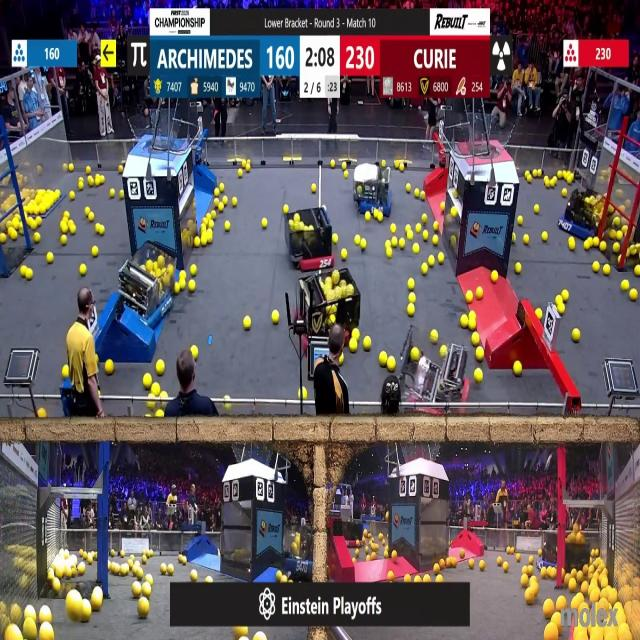ball_ground: (92, 590, 104, 611), (542, 600, 554, 618), (545, 626, 559, 640), (139, 599, 149, 618), (81, 603, 91, 621), (530, 577, 540, 595), (40, 607, 51, 623), (514, 360, 523, 376), (41, 627, 53, 639), (556, 597, 566, 611), (105, 359, 114, 374), (133, 584, 142, 599), (525, 589, 534, 604), (54, 579, 63, 593), (387, 356, 395, 371), (144, 375, 152, 389), (380, 352, 388, 366), (158, 360, 166, 374), (244, 316, 252, 329), (362, 338, 370, 351), (474, 368, 482, 381), (412, 348, 420, 361), (460, 315, 468, 328), (142, 585, 150, 598), (430, 328, 437, 342), (470, 334, 478, 346), (26, 269, 34, 281), (408, 306, 416, 318), (465, 290, 473, 302), (62, 365, 70, 377), (630, 289, 638, 301), (467, 317, 475, 329), (622, 280, 630, 292), (151, 384, 159, 396), (549, 567, 557, 579), (553, 615, 561, 627), (190, 346, 197, 359), (350, 340, 357, 353), (562, 289, 569, 302), (572, 328, 579, 341), (448, 557, 457, 567), (96, 175, 105, 185), (38, 410, 46, 421), (77, 564, 85, 575), (571, 598, 579, 609), (603, 265, 610, 277), (409, 279, 416, 291), (189, 266, 196, 278), (187, 280, 194, 292), (475, 348, 482, 360), (441, 345, 448, 357), (569, 581, 576, 593), (556, 294, 564, 304), (155, 410, 163, 420), (145, 574, 153, 584), (120, 565, 128, 575), (273, 311, 279, 324), (568, 238, 574, 251), (206, 232, 212, 245), (516, 264, 523, 275), (93, 246, 100, 257), (98, 223, 105, 234), (69, 223, 76, 234), (522, 575, 529, 586), (342, 249, 349, 260), (10, 231, 17, 242), (61, 221, 68, 232), (618, 255, 625, 266), (492, 272, 498, 284), (475, 287, 481, 299), (19, 267, 25, 279), (409, 292, 416, 302), (193, 237, 200, 247), (352, 328, 359, 338), (61, 236, 68, 246), (302, 389, 309, 399), (137, 568, 144, 578), (566, 173, 573, 183), (539, 567, 546, 577), (46, 252, 52, 263), (594, 263, 600, 274), (34, 233, 40, 244), (80, 266, 86, 277), (524, 235, 530, 246), (422, 265, 428, 276), (190, 570, 196, 581), (558, 304, 564, 315), (331, 234, 337, 245), (0, 234, 6, 245), (174, 283, 180, 294), (276, 570, 282, 581), (403, 573, 410, 582), (413, 244, 420, 253), (363, 212, 370, 221), (388, 570, 394, 580), (585, 241, 591, 251), (439, 253, 445, 263), (540, 233, 546, 243), (635, 266, 640, 278), (480, 560, 486, 570), (428, 256, 434, 266), (600, 242, 606, 252), (408, 232, 414, 242), (263, 218, 269, 228), (354, 236, 360, 246), (391, 552, 397, 562), (502, 562, 508, 572), (162, 564, 168, 574), (615, 243, 621, 253), (179, 555, 185, 565), (297, 389, 303, 399), (201, 237, 207, 247), (433, 564, 439, 574), (420, 192, 426, 202), (36, 216, 42, 226), (435, 574, 442, 582), (467, 560, 474, 568), (205, 575, 212, 583), (424, 574, 431, 582), (147, 400, 154, 408), (415, 574, 422, 582), (536, 309, 541, 320), (169, 564, 174, 575), (452, 208, 458, 217), (534, 205, 540, 214), (516, 216, 522, 225), (422, 214, 428, 223), (110, 188, 116, 197), (70, 190, 76, 199), (64, 211, 70, 220), (282, 573, 288, 582), (213, 200, 219, 209), (552, 177, 558, 186), (387, 248, 392, 258), (398, 239, 403, 249), (392, 238, 397, 248), (233, 198, 238, 208), (360, 240, 365, 250), (90, 212, 95, 222), (432, 236, 437, 246), (594, 238, 599, 248), (543, 176, 548, 186), (618, 232, 623, 242), (403, 223, 410, 230), (283, 206, 289, 214), (390, 224, 396, 232), (432, 222, 438, 230), (416, 223, 422, 231), (208, 220, 214, 228), (180, 272, 186, 280), (562, 188, 568, 196), (84, 208, 90, 216), (218, 204, 224, 212), (162, 391, 168, 399), (528, 556, 534, 564), (238, 170, 244, 178), (522, 566, 528, 574), (223, 394, 229, 402), (142, 556, 148, 564), (55, 189, 61, 197), (224, 221, 229, 230), (423, 232, 428, 241), (379, 213, 384, 222), (386, 240, 391, 249), (415, 188, 420, 197), (78, 181, 83, 190), (90, 177, 95, 186), (407, 187, 412, 196), (370, 554, 376, 561), (222, 198, 228, 205), (214, 188, 220, 195), (517, 554, 522, 562), (120, 164, 125, 172), (384, 552, 389, 560), (527, 175, 532, 183), (85, 166, 90, 174), (202, 222, 207, 230), (507, 545, 512, 553), (343, 161, 348, 169), (532, 170, 537, 178), (460, 550, 465, 558), (394, 162, 399, 170), (441, 560, 446, 568), (312, 183, 316, 192), (330, 161, 334, 170), (513, 234, 517, 243), (341, 355, 345, 364), (244, 162, 248, 171), (70, 162, 74, 171), (442, 203, 446, 212), (219, 183, 224, 190), (203, 217, 208, 224), (119, 552, 124, 559), (148, 552, 153, 559), (119, 190, 123, 198), (212, 211, 216, 219), (497, 558, 501, 566), (224, 402, 229, 408), (381, 162, 386, 168), (344, 172, 348, 179), (399, 165, 403, 172), (354, 550, 358, 557), (538, 551, 542, 557), (353, 558, 356, 564)
goal: (460, 116, 517, 158), (128, 115, 186, 152)
robot_blue: (119, 246, 177, 329), (561, 190, 607, 240), (353, 163, 391, 214), (286, 528, 316, 574)
robot_red: (293, 268, 362, 353), (404, 338, 469, 414), (288, 210, 336, 272)
